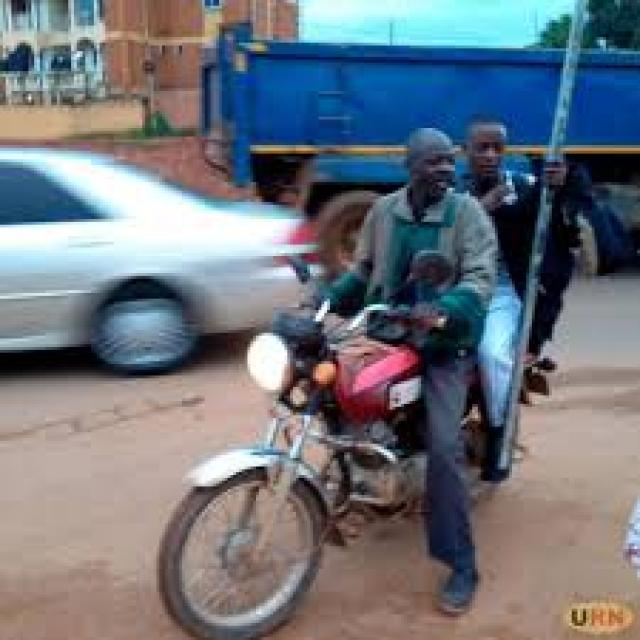bodaboda: (130, 219, 592, 640)
